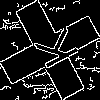K: (25, 25, 81, 76)
